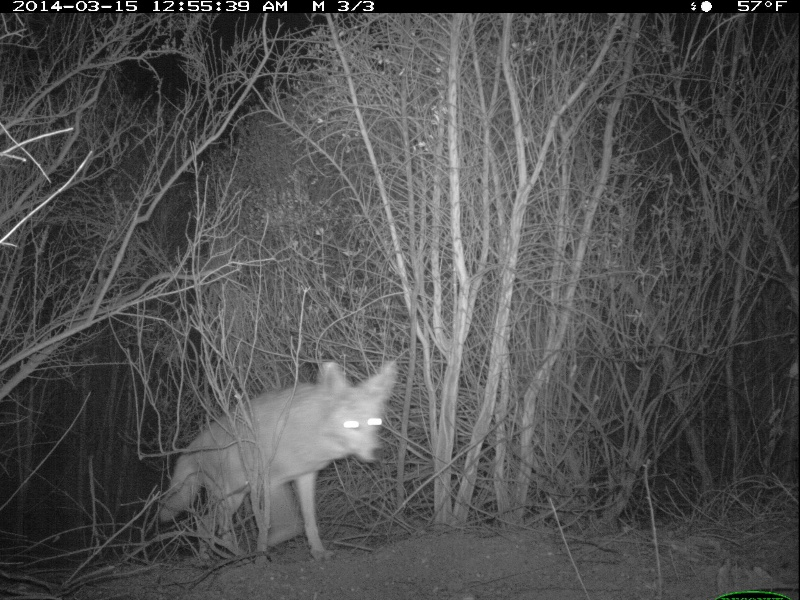coyote: (157, 357, 402, 570)
